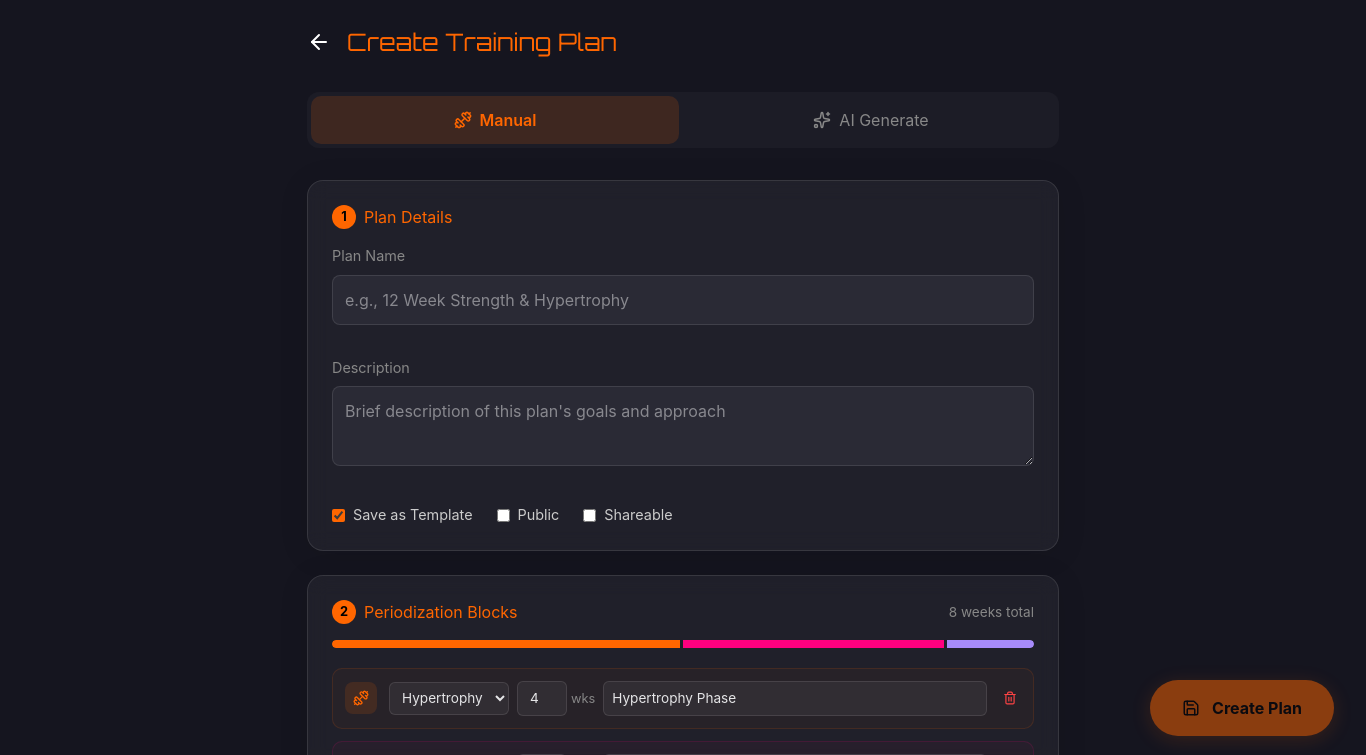
NewPlanPage › shows AI generation form when AI mode is selected
Click the button "AI Generate": [871, 120] box [687,96,1055,144]
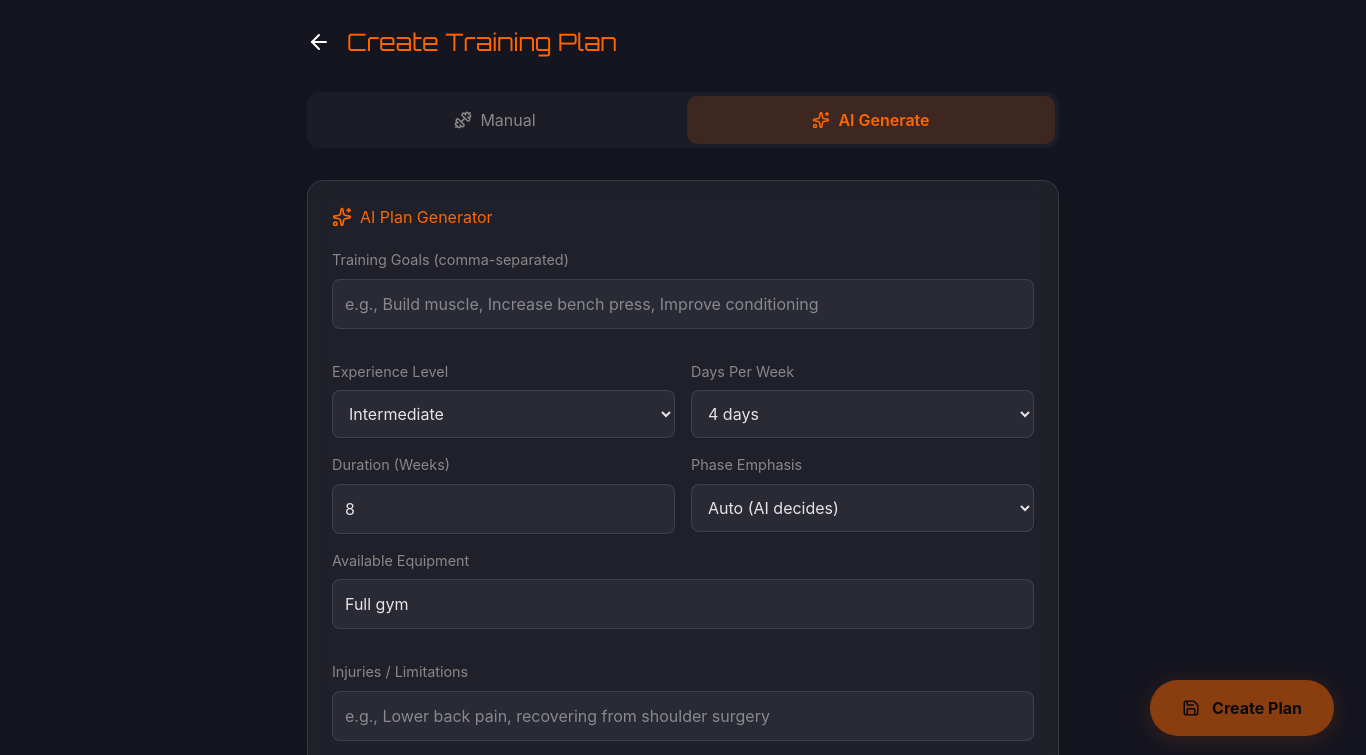
expect the heading "AI Plan Generator" is shown: met, box [332,207,493,227]
expect the field with placeholder "Build muscle" is shown: met, box [332,279,1034,329]
